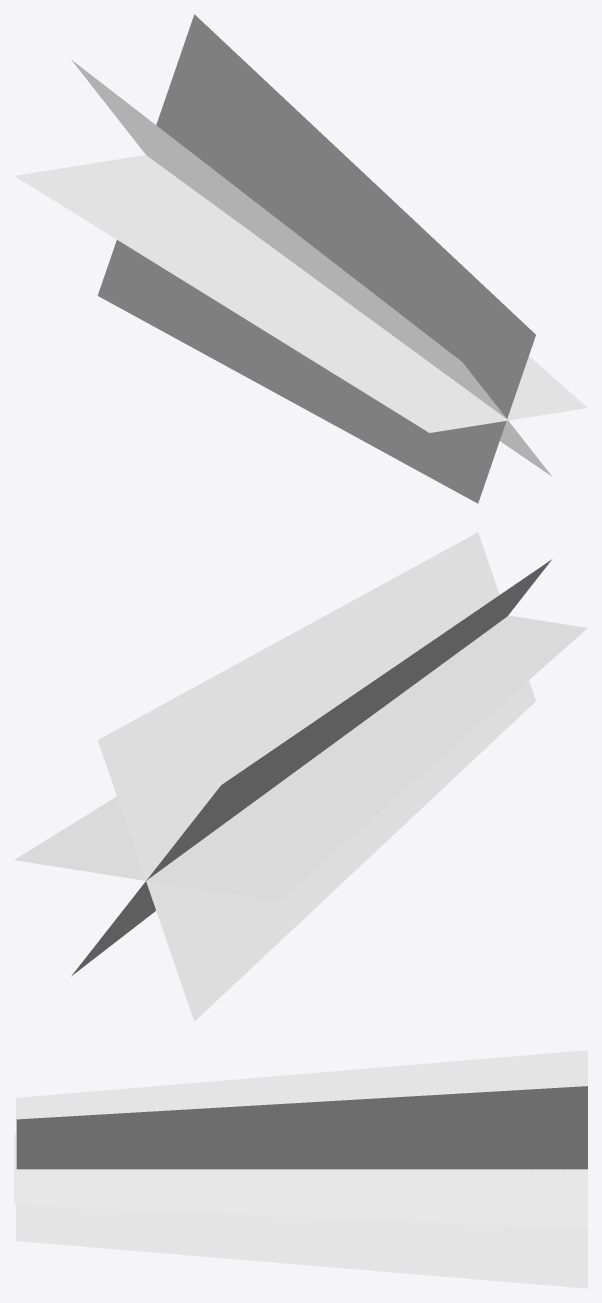
Rendered from SM_Grass_Tuft.glb.
3 views of the same model, one above another, from view 1: azimuth 30°, elevation 25°; view 2: azimuth 150°, elevation 25°; view 3: azimuth 270°, elevation 25° (orthographic). The views are drawn at different scales.
Parts seen in each view (by area): view 1: asset_grass_tuft; view 2: asset_grass_tuft; view 3: asset_grass_tuft.
Boxes of the visible parts, <box> form: asset_grass_tuft: <box>14,14,587,503</box>; asset_grass_tuft: <box>14,532,587,1021</box>; asset_grass_tuft: <box>14,1050,587,1288</box>.
Bounding box in the file's own units: 0.1595 × 0.1489 × 0.3795.
Materials: 1 (1 with a texture image).
